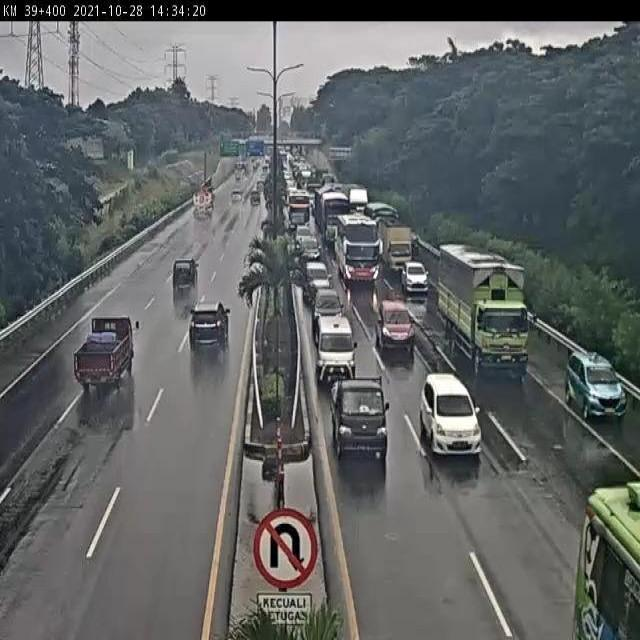big bus: (340, 215, 383, 284), (320, 190, 353, 242), (283, 195, 311, 236)
car: (323, 375, 391, 464), (419, 373, 483, 458), (561, 352, 630, 420), (312, 316, 360, 384), (375, 300, 419, 357), (189, 302, 232, 350), (170, 255, 200, 296), (316, 287, 343, 332), (403, 260, 432, 299), (305, 260, 332, 301), (297, 238, 318, 266), (292, 220, 309, 240)
small truck: (70, 315, 137, 393)
truck-l-: (437, 245, 539, 372)
truck-m-: (377, 214, 417, 278)
